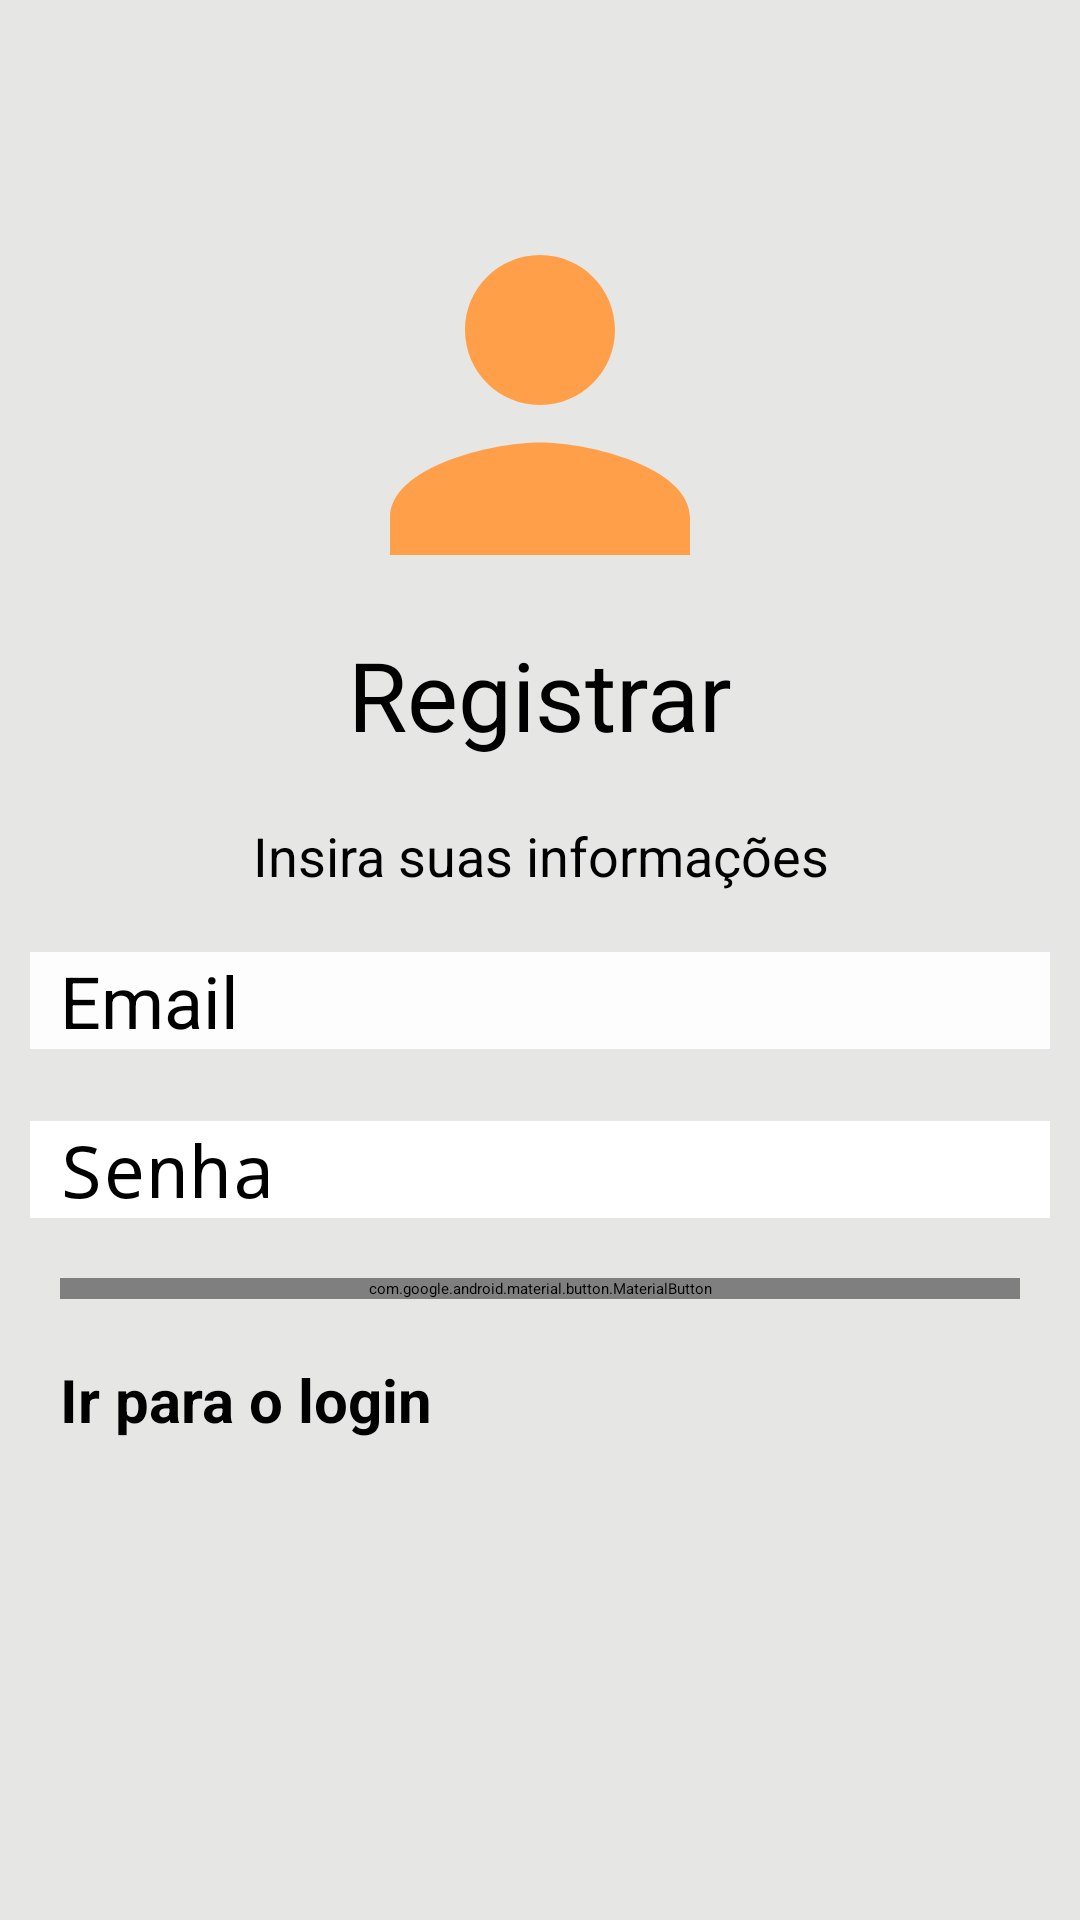

Icon click points for this 1080*1920 phone screenshot, format [x,y]:
Image User: [540,405]
